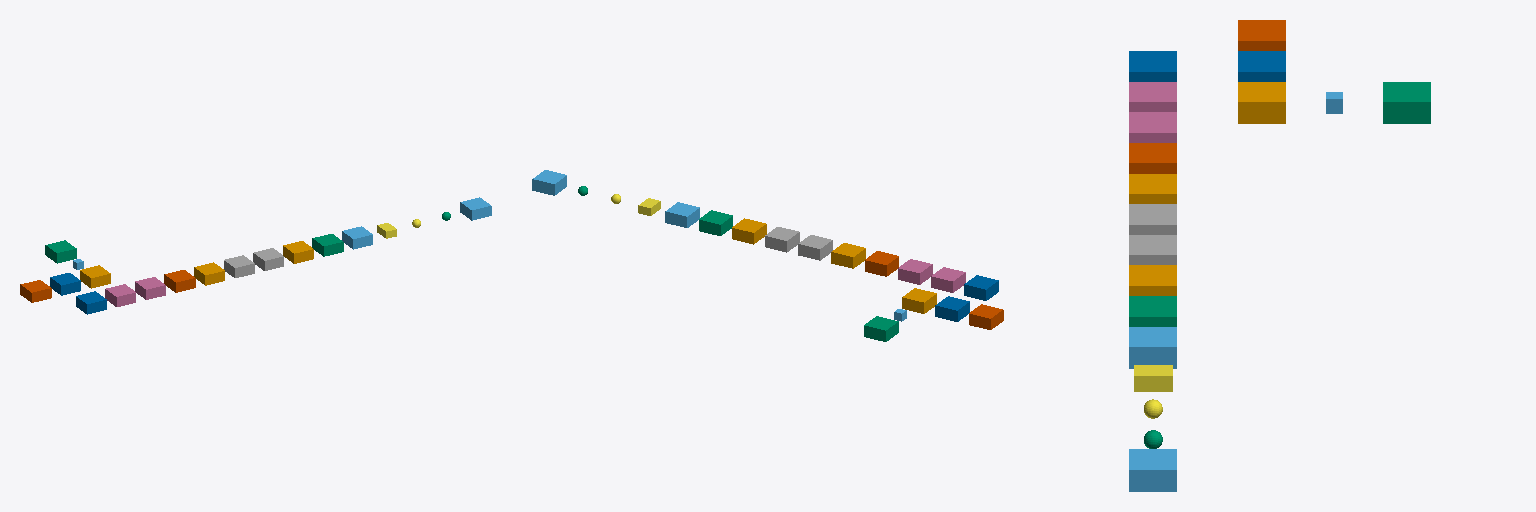
The robot description file, URDF, robot "high_speed_mini_positioner":
<?xml version="1.0" ?>
<robot name="high_speed_mini_positioner">
  <link name="base_structure">
    <visual>
      <geometry>
        <box size="0.04 0.04 0.02"/>
      </geometry>
    </visual>
  </link>
  <link name="center_shaft">
    <visual>
      <geometry>
        <box size="0.014 0.014 0.014"/>
      </geometry>
    </visual>
  </link>
  <link name="electromagnetic_coil">
    <visual>
      <geometry>
        <sphere radius="0.008"/>
      </geometry>
    </visual>
  </link>
  <link name="end_effector">
    <visual>
      <geometry>
        <box size="0.022 0.032 0.014"/>
      </geometry>
    </visual>
  </link>
  <link name="first_arm">
    <visual>
      <geometry>
        <box size="0.04 0.04 0.02"/>
      </geometry>
    </visual>
  </link>
  <link name="first_arm_first_end">
    <visual>
      <geometry>
        <box size="0.04 0.04 0.02"/>
      </geometry>
    </visual>
  </link>
  <link name="first_arm_first_section">
    <visual>
      <geometry>
        <box size="0.04 0.04 0.02"/>
      </geometry>
    </visual>
  </link>
  <link name="first_arm_second_end">
    <visual>
      <geometry>
        <box size="0.04 0.04 0.02"/>
      </geometry>
    </visual>
  </link>
  <link name="first_arm_second_section">
    <visual>
      <geometry>
        <box size="0.04 0.04 0.02"/>
      </geometry>
    </visual>
  </link>
  <link name="fourth_arm">
    <visual>
      <geometry>
        <box size="0.04 0.04 0.02"/>
      </geometry>
    </visual>
  </link>
  <link name="magnets">
    <visual>
      <geometry>
        <box size="0.04 0.04 0.02"/>
      </geometry>
    </visual>
  </link>
  <link name="means_for_moving">
    <visual>
      <geometry>
        <sphere radius="0.008"/>
      </geometry>
    </visual>
  </link>
  <link name="parallelogram_structure">
    <visual>
      <geometry>
        <box size="0.04 0.04 0.02"/>
      </geometry>
    </visual>
  </link>
  <link name="positioning_linkage">
    <visual>
      <geometry>
        <box size="0.04 0.04 0.02"/>
      </geometry>
    </visual>
  </link>
  <link name="second_arm">
    <visual>
      <geometry>
        <box size="0.04 0.04 0.02"/>
      </geometry>
    </visual>
  </link>
  <link name="second_arm_first_section">
    <visual>
      <geometry>
        <box size="0.04 0.04 0.02"/>
      </geometry>
    </visual>
  </link>
  <link name="second_arm_second_end">
    <visual>
      <geometry>
        <box size="0.04 0.04 0.02"/>
      </geometry>
    </visual>
  </link>
  <link name="stationary_iron_structures">
    <visual>
      <geometry>
        <box size="0.04 0.04 0.02"/>
      </geometry>
    </visual>
  </link>
  <link name="third_arm">
    <visual>
      <geometry>
        <box size="0.04 0.04 0.02"/>
      </geometry>
    </visual>
  </link>
  <joint name="_attach_positioning_linkage_to_base_structure" type="fixed">
    <parent link="positioning_linkage"/>
    <child link="base_structure"/>
    <origin xyz="0.1200 0.0000 0.0000" rpy="0 0 0"/>
  </joint>
  <joint name="_attach_positioning_linkage_to_center_shaft" type="fixed">
    <parent link="positioning_linkage"/>
    <child link="center_shaft"/>
    <origin xyz="0.1200 0.0600 0.0000" rpy="0 0 0"/>
  </joint>
  <joint name="_attach_positioning_linkage_to_electromagnetic_coil" type="fixed">
    <parent link="positioning_linkage"/>
    <child link="electromagnetic_coil"/>
    <origin xyz="0.7800 -0.0900 0.0000" rpy="0 0 0"/>
  </joint>
  <joint name="_attach_positioning_linkage_to_end_effector" type="fixed">
    <parent link="positioning_linkage"/>
    <child link="end_effector"/>
    <origin xyz="0.6600 -0.0900 0.0000" rpy="0 0 0"/>
  </joint>
  <joint name="_attach_positioning_linkage_to_first_arm" type="fixed">
    <parent link="positioning_linkage"/>
    <child link="first_arm"/>
    <origin xyz="0.0600 -0.0900 0.0000" rpy="0 0 0"/>
  </joint>
  <joint name="_attach_positioning_linkage_to_first_arm_first_end" type="fixed">
    <parent link="positioning_linkage"/>
    <child link="first_arm_first_end"/>
    <origin xyz="0.2400 -0.0900 0.0000" rpy="0 0 0"/>
  </joint>
  <joint name="_attach_positioning_linkage_to_first_arm_first_section" type="fixed">
    <parent link="positioning_linkage"/>
    <child link="first_arm_first_section"/>
    <origin xyz="0.1800 -0.0900 0.0000" rpy="0 0 0"/>
  </joint>
  <joint name="_attach_positioning_linkage_to_first_arm_second_end" type="fixed">
    <parent link="positioning_linkage"/>
    <child link="first_arm_second_end"/>
    <origin xyz="0.3600 -0.0900 0.0000" rpy="0 0 0"/>
  </joint>
  <joint name="_attach_positioning_linkage_to_first_arm_second_section" type="fixed">
    <parent link="positioning_linkage"/>
    <child link="first_arm_second_section"/>
    <origin xyz="0.3000 -0.0900 0.0000" rpy="0 0 0"/>
  </joint>
  <joint name="_attach_positioning_linkage_to_fourth_arm" type="fixed">
    <parent link="positioning_linkage"/>
    <child link="fourth_arm"/>
    <origin xyz="0.6000 -0.0900 0.0000" rpy="0 0 0"/>
  </joint>
  <joint name="_attach_positioning_linkage_to_magnets" type="fixed">
    <parent link="positioning_linkage"/>
    <child link="magnets"/>
    <origin xyz="0.1200 0.1200 0.0000" rpy="0 0 0"/>
  </joint>
  <joint name="_attach_positioning_linkage_to_means_for_moving" type="fixed">
    <parent link="positioning_linkage"/>
    <child link="means_for_moving"/>
    <origin xyz="0.7200 -0.0900 0.0000" rpy="0 0 0"/>
  </joint>
  <joint name="_attach_positioning_linkage_to_parallelogram_structure" type="fixed">
    <parent link="positioning_linkage"/>
    <child link="parallelogram_structure"/>
    <origin xyz="0.0600 0.0000 0.0000" rpy="0 0 0"/>
  </joint>
  <joint name="_attach_positioning_linkage_to_second_arm" type="fixed">
    <parent link="positioning_linkage"/>
    <child link="second_arm"/>
    <origin xyz="0.1200 -0.0900 0.0000" rpy="0 0 0"/>
  </joint>
  <joint name="_attach_positioning_linkage_to_second_arm_first_section" type="fixed">
    <parent link="positioning_linkage"/>
    <child link="second_arm_first_section"/>
    <origin xyz="0.4200 -0.0900 0.0000" rpy="0 0 0"/>
  </joint>
  <joint name="_attach_positioning_linkage_to_second_arm_second_end" type="fixed">
    <parent link="positioning_linkage"/>
    <child link="second_arm_second_end"/>
    <origin xyz="0.4800 -0.0900 0.0000" rpy="0 0 0"/>
  </joint>
  <joint name="_attach_positioning_linkage_to_stationary_iron_structures" type="fixed">
    <parent link="positioning_linkage"/>
    <child link="stationary_iron_structures"/>
    <origin xyz="0.8400 -0.0900 0.0000" rpy="0 0 0"/>
  </joint>
  <joint name="_attach_positioning_linkage_to_third_arm" type="fixed">
    <parent link="positioning_linkage"/>
    <child link="third_arm"/>
    <origin xyz="0.5400 -0.0900 0.0000" rpy="0 0 0"/>
  </joint>
</robot>

--- Render facts (derived) ---
Views: 3 orthographic renders of the robot side by side, from view 1: azimuth 30°, elevation 25°; view 2: azimuth 150°, elevation 25°; view 3: azimuth 270°, elevation 25°.
Robot: high_speed_mini_positioner — 19 links, 18 joints (18 fixed); root link positioning_linkage; default pose: every joint at zero.
Visible links, largest first — view 1: positioning_linkage, first_arm_first_end, magnets, stationary_iron_structures, third_arm, first_arm, first_arm_first_section, base_structure, first_arm_second_end, fourth_arm, second_arm_second_end, first_arm_second_section (+3 smaller); view 2: magnets, second_arm_second_end, stationary_iron_structures, first_arm_first_section, first_arm_second_section, fourth_arm, base_structure, positioning_linkage, second_arm_first_section, first_arm, second_arm, parallelogram_structure (+3 smaller); view 3: stationary_iron_structures, base_structure, magnets, fourth_arm, first_arm, first_arm_first_end, first_arm_first_section, first_arm_second_end, parallelogram_structure, positioning_linkage, second_arm_second_end, third_arm (+4 smaller).
Boxes of the visible links, x1=… form: positioning_linkage: x1=20, y1=280, x2=51, y2=302; first_arm_first_end: x1=164, y1=270, x2=195, y2=292; magnets: x1=45, y1=240, x2=76, y2=263; stationary_iron_structures: x1=460, y1=197, x2=491, y2=220; third_arm: x1=312, y1=234, x2=343, y2=256; first_arm: x1=76, y1=291, x2=106, y2=314; first_arm_first_section: x1=135, y1=277, x2=165, y2=299; base_structure: x1=80, y1=265, x2=110, y2=288; first_arm_second_end: x1=224, y1=255, x2=254, y2=277; fourth_arm: x1=342, y1=226, x2=372, y2=249; second_arm_second_end: x1=283, y1=241, x2=313, y2=263; first_arm_second_section: x1=194, y1=262, x2=224, y2=285; magnets: x1=864, y1=316, x2=898, y2=341; second_arm_second_end: x1=732, y1=218, x2=766, y2=244; stationary_iron_structures: x1=532, y1=170, x2=566, y2=195; first_arm_first_section: x1=898, y1=259, x2=932, y2=284; first_arm_second_section: x1=831, y1=243, x2=865, y2=268; fourth_arm: x1=665, y1=202, x2=699, y2=227; base_structure: x1=902, y1=288, x2=936, y2=313; positioning_linkage: x1=969, y1=304, x2=1003, y2=329; second_arm_first_section: x1=765, y1=227, x2=799, y2=252; first_arm: x1=964, y1=275, x2=998, y2=300; second_arm: x1=931, y1=267, x2=965, y2=292; parallelogram_structure: x1=935, y1=296, x2=969, y2=321; stationary_iron_structures: x1=1129, y1=449, x2=1176, y2=491; base_structure: x1=1238, y1=82, x2=1285, y2=123; magnets: x1=1383, y1=82, x2=1430, y2=123; fourth_arm: x1=1129, y1=327, x2=1176, y2=368; first_arm: x1=1129, y1=51, x2=1176, y2=81; first_arm_first_end: x1=1129, y1=143, x2=1176, y2=173; first_arm_first_section: x1=1129, y1=112, x2=1176, y2=142; first_arm_second_end: x1=1129, y1=204, x2=1176, y2=234; parallelogram_structure: x1=1238, y1=51, x2=1285, y2=81; positioning_linkage: x1=1238, y1=20, x2=1285, y2=50; second_arm_second_end: x1=1129, y1=265, x2=1176, y2=295; third_arm: x1=1129, y1=296, x2=1176, y2=326.
Bounding box of the posed robot: 0.88 × 0.25 × 0.02 m (x, y, z).
Geometry: primitives only (box / cylinder / sphere), no mesh files.
